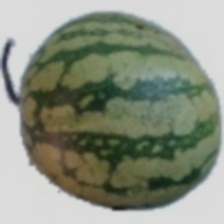watermelon: (49, 11, 193, 204)
